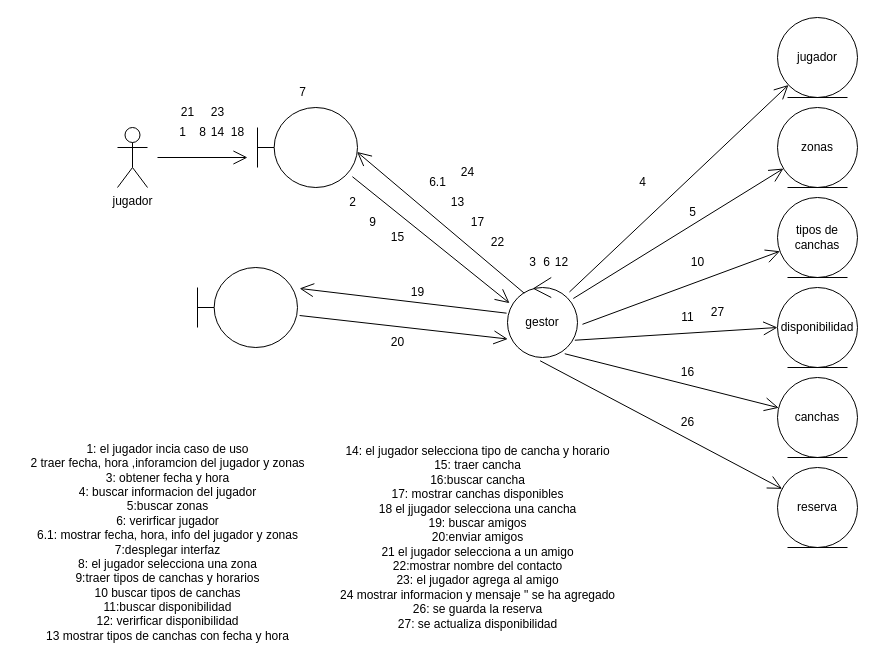
The diagram is 875 pixels wide and 665 high, and some of its shapes have lost their labels. Here are the shapes that lost their labels. From the top down, the centre of each, then its label:
[307,147]: interfaz
[247,307]: whatsapp
